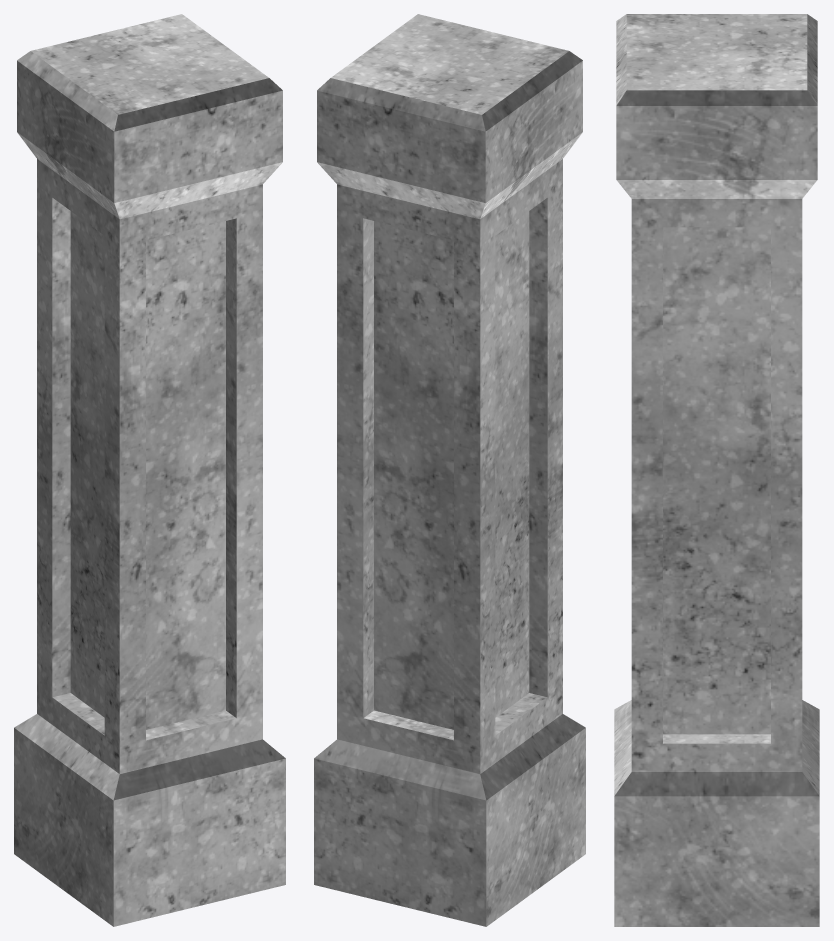
The model's file is Colum5_4.obj.
3 renders of one model, left to right at view 1: azimuth 30°, elevation 25°; view 2: azimuth 150°, elevation 25°; view 3: azimuth 270°, elevation 25°, orthographic. The views are drawn at different scales.
Visible parts, largest first — view 1: stone_column.001; view 2: stone_column.001; view 3: stone_column.001.
Part boxes in pixels (x1,y1,x2,y2): stone_column.001: (14,14,285,926); stone_column.001: (314,14,585,926); stone_column.001: (614,14,819,926).
Size of the model in its own units: 4.58 by 20.44 by 4.58.
1 material, 1 textured.
